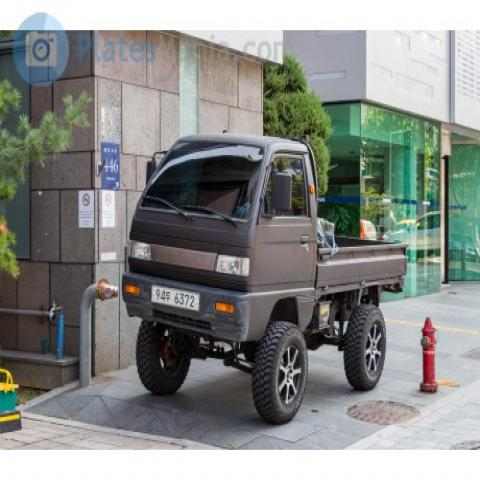LP: (145, 277, 203, 315)
